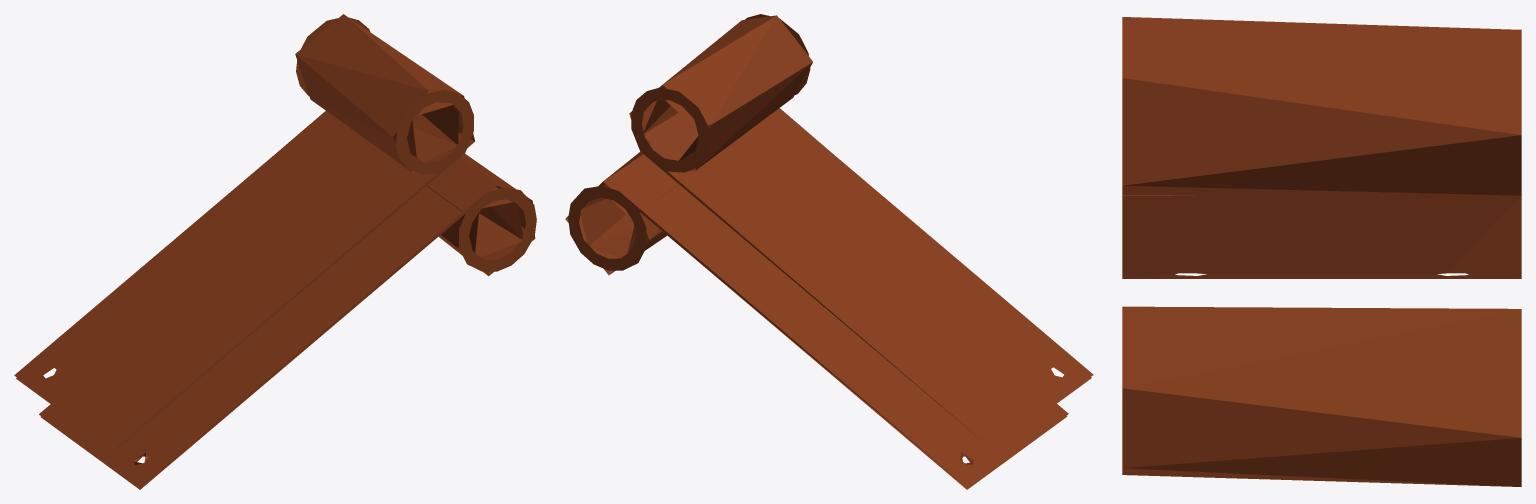
Rendered from rocker_right_093.dae.
3 renders of one model, left to right at view 1: azimuth 30°, elevation 25°; view 2: azimuth 150°, elevation 25°; view 3: azimuth 270°, elevation 25°, orthographic. The views are drawn at different scales.
Parts seen in each view (by area): view 1: node; view 2: node; view 3: node.
Part boxes in pixels (x1,y1,x2,y2): node: [14, 14, 536, 489]; node: [565, 14, 1093, 489]; node: [1122, 17, 1521, 486].
Size of the model in its own units: 0.188 by 0.0762 by 0.1387.
